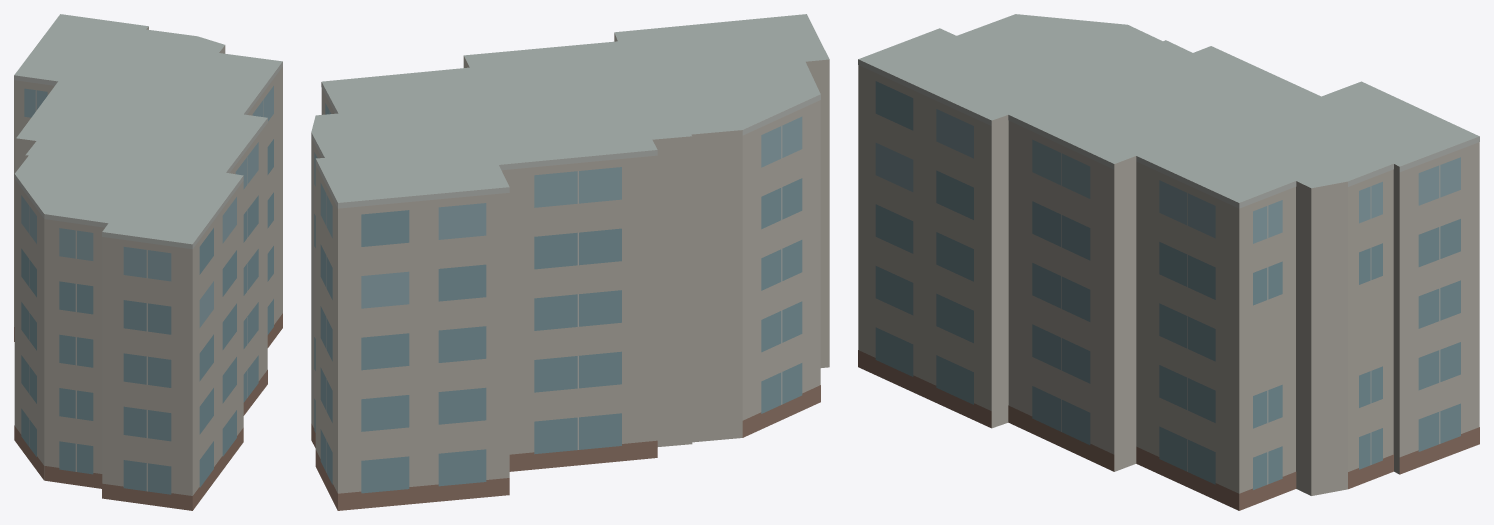
Rendered from survey-upis-32681498.glb.
3 renders of one model, left to right at view 1: azimuth 30°, elevation 25°; view 2: azimuth 150°, elevation 25°; view 3: azimuth 270°, elevation 25°, orthographic. The views are drawn at different scales.
Visible parts, largest first — view 1: survey-upis-32681498.tmp; view 2: survey-upis-32681498.tmp; view 3: survey-upis-32681498.tmp.
Part boxes in pixels (box(x1,y1,x2,y2)): survey-upis-32681498.tmp: box(14, 14, 282, 510); survey-upis-32681498.tmp: box(311, 14, 829, 510); survey-upis-32681498.tmp: box(858, 14, 1479, 510).
Size of the model in its own units: 17.52 by 13.3 by 24.35.
